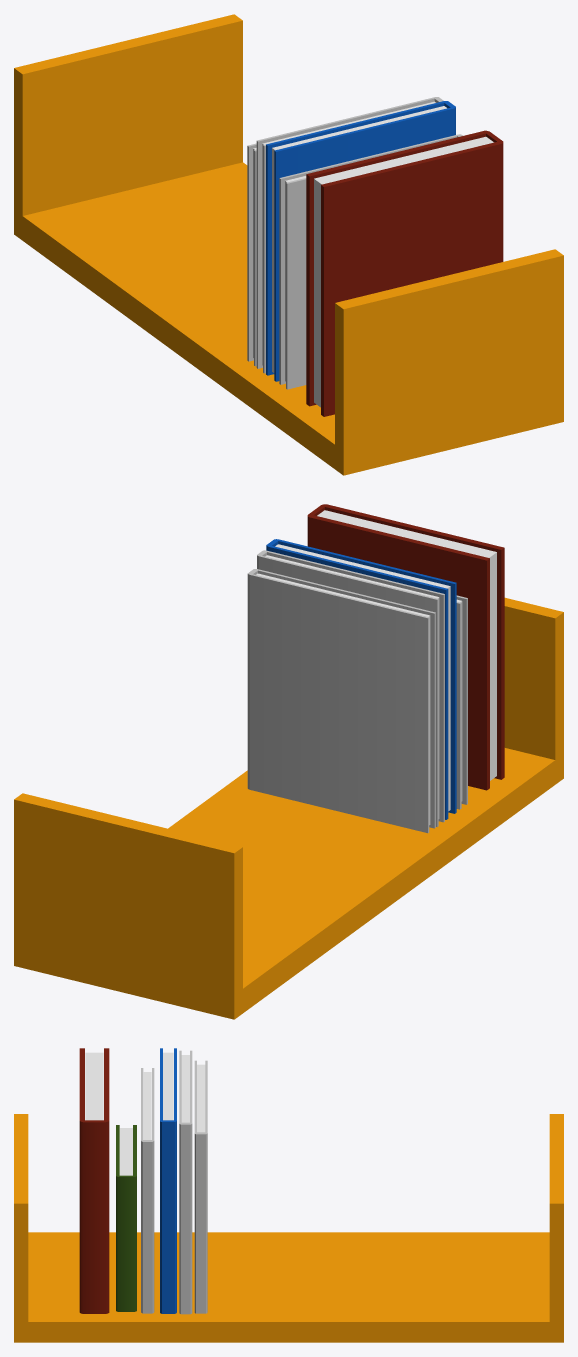
The model's file is bookcase2.fbx.
3 views of the same model, one above another, from view 1: azimuth 30°, elevation 25°; view 2: azimuth 150°, elevation 25°; view 3: azimuth 270°, elevation 25° (orthographic). The views are drawn at different scales.
Parts seen in each view (by area): view 1: Cube.001, Cube, Cube.003, Cube.002, Cube.006, Cube.005; view 2: Cube.001, Cube.005, Cube, Cube.006, Cube.003, Cube.002; view 3: Cube.001, Cube, Cube.003, Cube.004, Cube.006, Cube.005, Cube.002.
Boxes of the visible parts, x1,y1,x2,y2 form: Cube.001: (14, 14, 563, 475); Cube: (306, 130, 503, 416); Cube.003: (266, 101, 455, 381); Cube.002: (279, 134, 462, 389); Cube.006: (256, 97, 443, 373); Cube.005: (247, 143, 256, 366); Cube.001: (14, 597, 563, 1019); Cube.005: (247, 569, 435, 833); Cube: (307, 504, 504, 790); Cube.006: (257, 550, 444, 826); Cube.003: (266, 539, 456, 819); Cube.002: (456, 595, 467, 809); Cube.001: (14, 1114, 563, 1342); Cube: (79, 1048, 109, 1313); Cube.003: (160, 1048, 176, 1313); Cube.004: (116, 1125, 136, 1311); Cube.006: (179, 1050, 192, 1314); Cube.005: (194, 1060, 207, 1313); Cube.002: (141, 1068, 154, 1313).
Size of the model in its own units: 110 by 121 by 285.
Materials: 7 (7 with a texture image).
